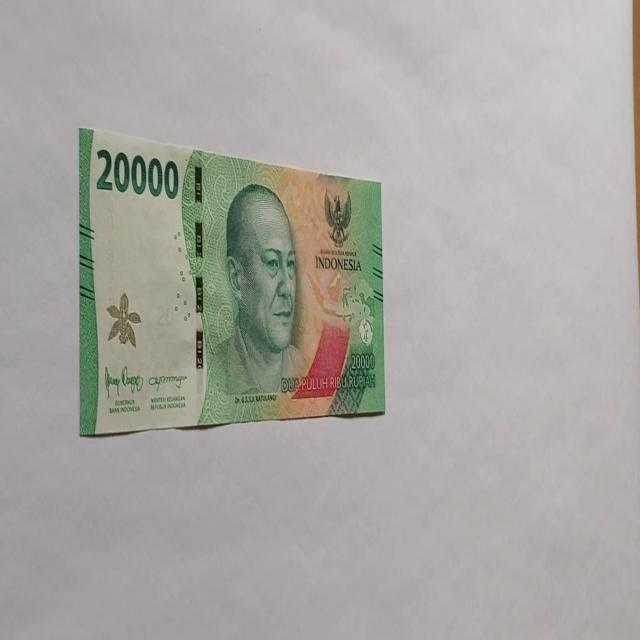dua puluh ribu rupiah: (77, 125, 386, 438)
